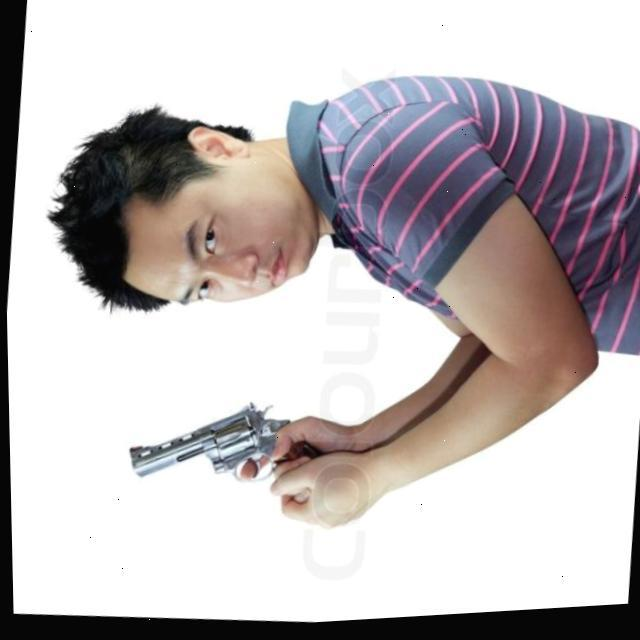gun: (119, 388, 289, 496)
